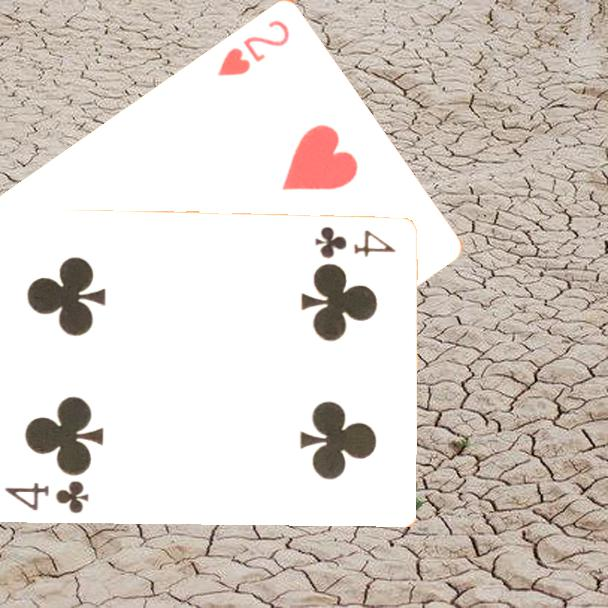c04: (1, 478, 91, 517), (311, 224, 399, 260)
h02: (213, 15, 293, 79)
